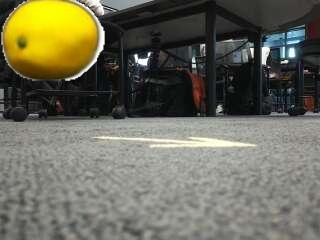lemon: (6, 0, 99, 78)
